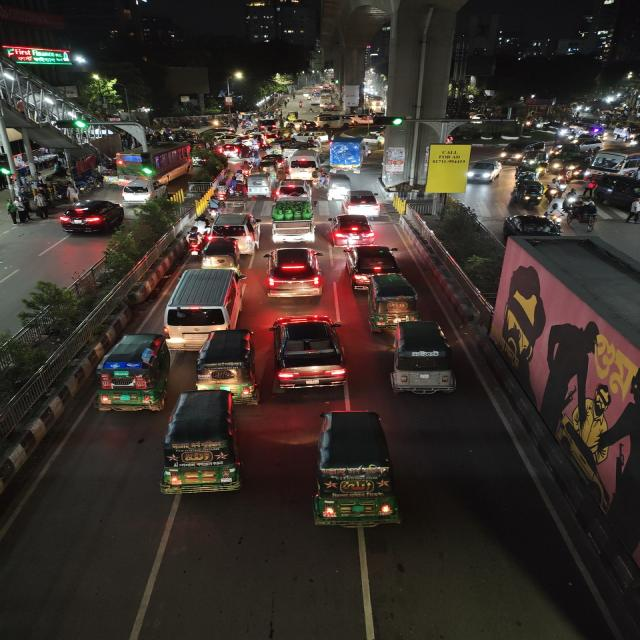bus: (119, 140, 195, 183), (586, 147, 640, 179)
car: (266, 315, 351, 393), (162, 264, 246, 340), (263, 243, 326, 303), (341, 244, 404, 286), (57, 198, 126, 236), (208, 212, 263, 248), (326, 212, 376, 246), (338, 188, 384, 216), (468, 154, 503, 186), (120, 180, 161, 204), (286, 151, 321, 179), (498, 140, 534, 163), (273, 178, 311, 198), (316, 113, 348, 129), (220, 143, 245, 160)
cng: (308, 408, 402, 536), (158, 388, 246, 500), (92, 330, 172, 417), (384, 319, 461, 401), (192, 328, 256, 400), (365, 274, 423, 332), (512, 178, 546, 205), (244, 171, 273, 197), (324, 174, 350, 199), (550, 142, 580, 161), (523, 152, 551, 166)
motorcycle: (182, 228, 205, 257), (546, 180, 558, 206)
pedestrian: (3, 198, 26, 225), (30, 194, 48, 220), (0, 169, 9, 192)
pickup_van: (266, 198, 318, 244), (611, 125, 634, 144)
rickshaw: (569, 195, 599, 230)
truck: (326, 135, 369, 172)
